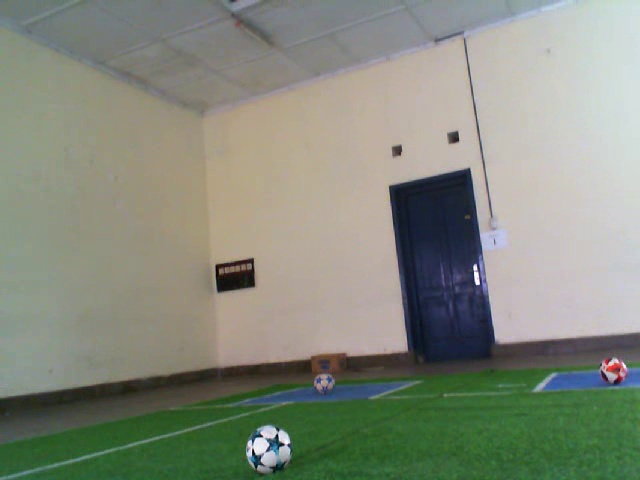ball: (243, 422, 296, 476), (598, 354, 630, 387), (311, 371, 337, 397)
